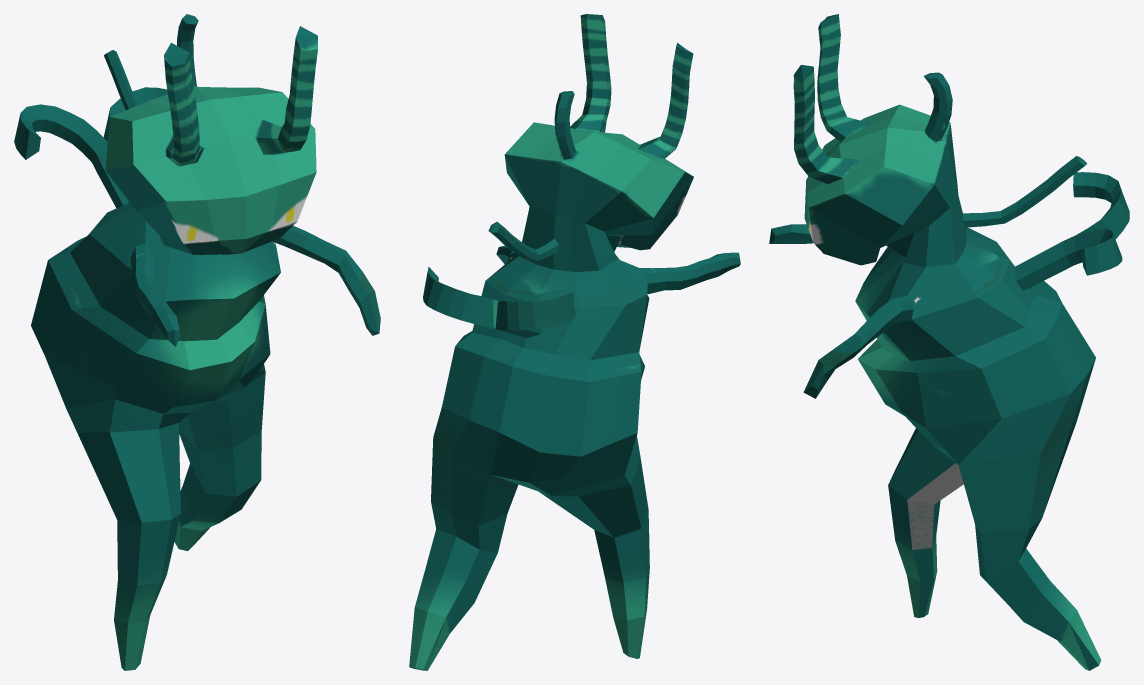
File: monstruo1_caminar_95.obj
3 renders of one model, left to right at view 1: azimuth 30°, elevation 25°; view 2: azimuth 150°, elevation 25°; view 3: azimuth 270°, elevation 25°, orthographic. The views are drawn at different scales.
Visible parts, largest first — view 1: Monstruo_basico; view 2: Monstruo_basico; view 3: Monstruo_basico.
Part boxes in pixels (x1,y1,x2,y2): Monstruo_basico: [14, 14, 380, 670]; Monstruo_basico: [409, 14, 740, 670]; Monstruo_basico: [769, 14, 1129, 670].
Size of the model in its own units: 0.3795 by 1 by 0.5451.
